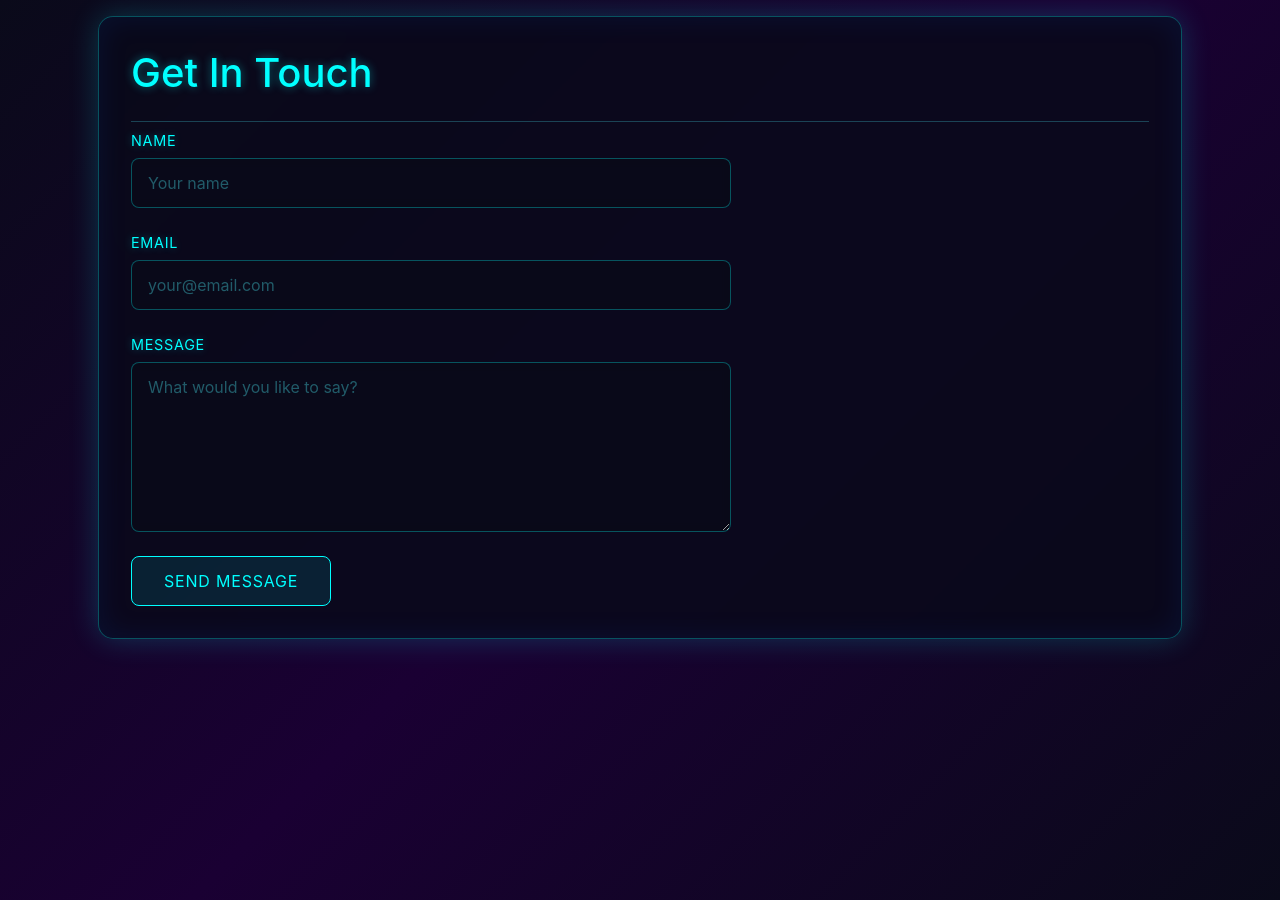
Test: Contact form › shows email format error for invalid email
This screenshot has width=1280, height=900.
In the field labelled "Name": (431, 183) x1=131 y1=158 x2=731 y2=208, type "Parker"
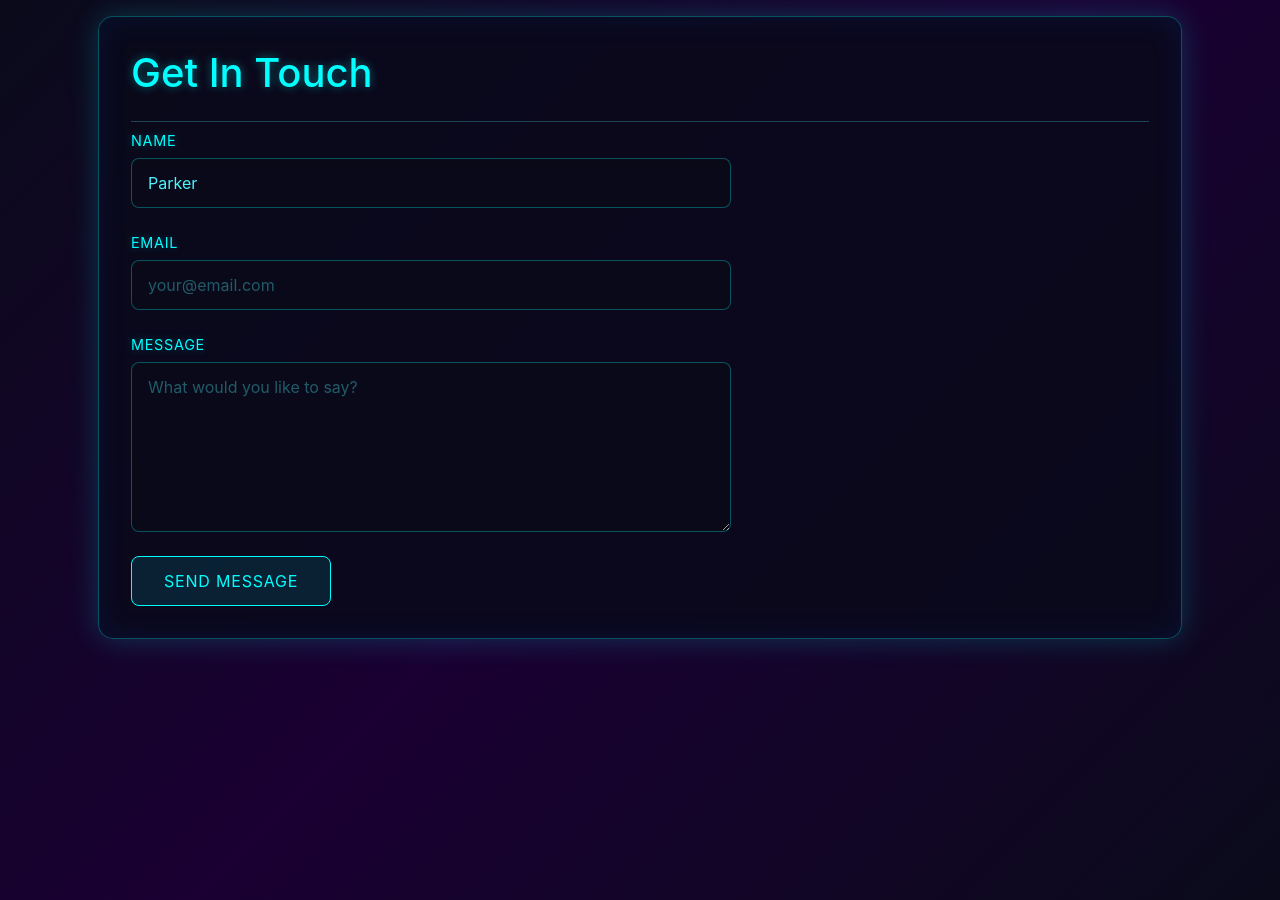
In the field labelled "Email": (431, 285) x1=131 y1=260 x2=731 y2=310, type "notanemail"
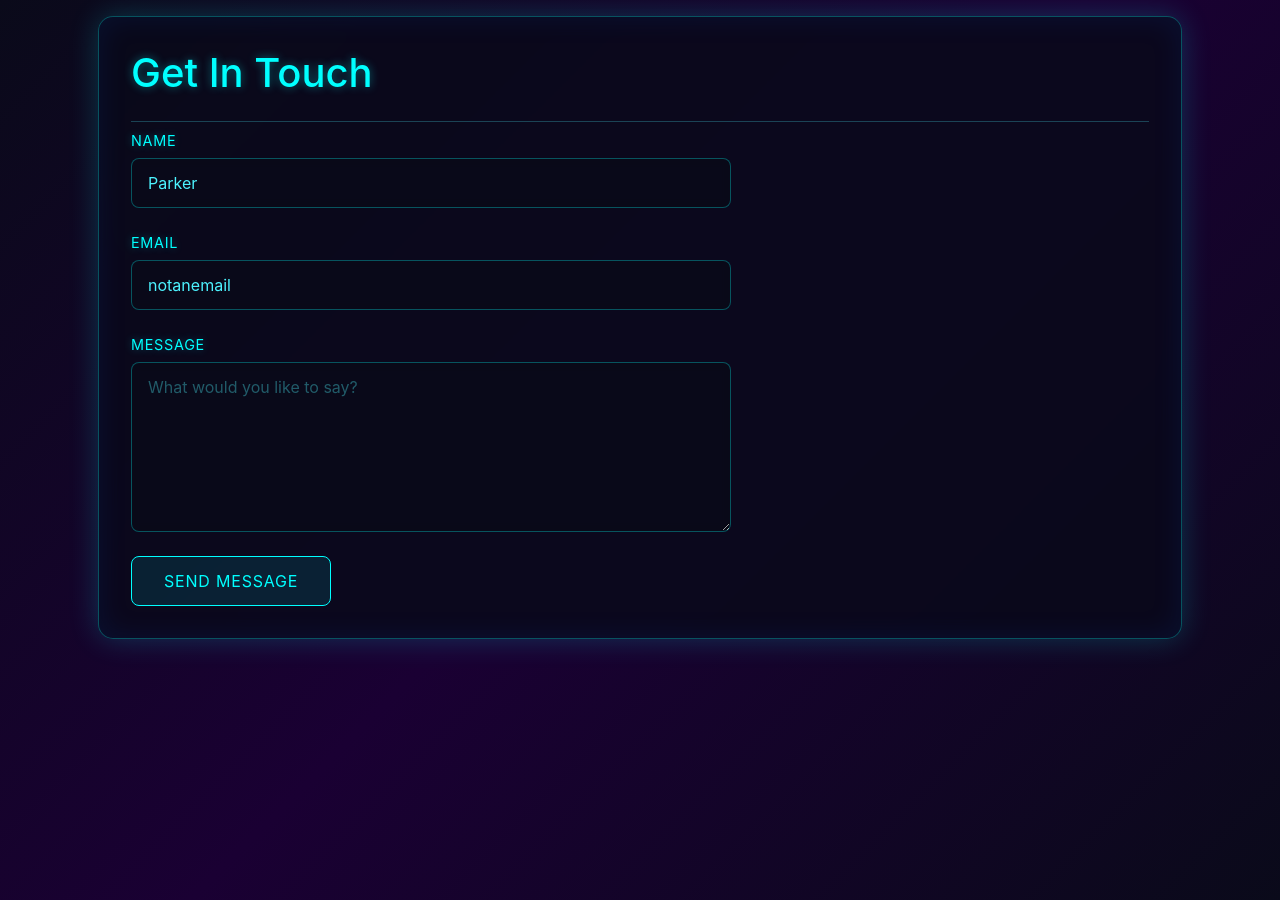
In the text box labelled "Message": (431, 447) x1=131 y1=362 x2=731 y2=532, type "Hello"
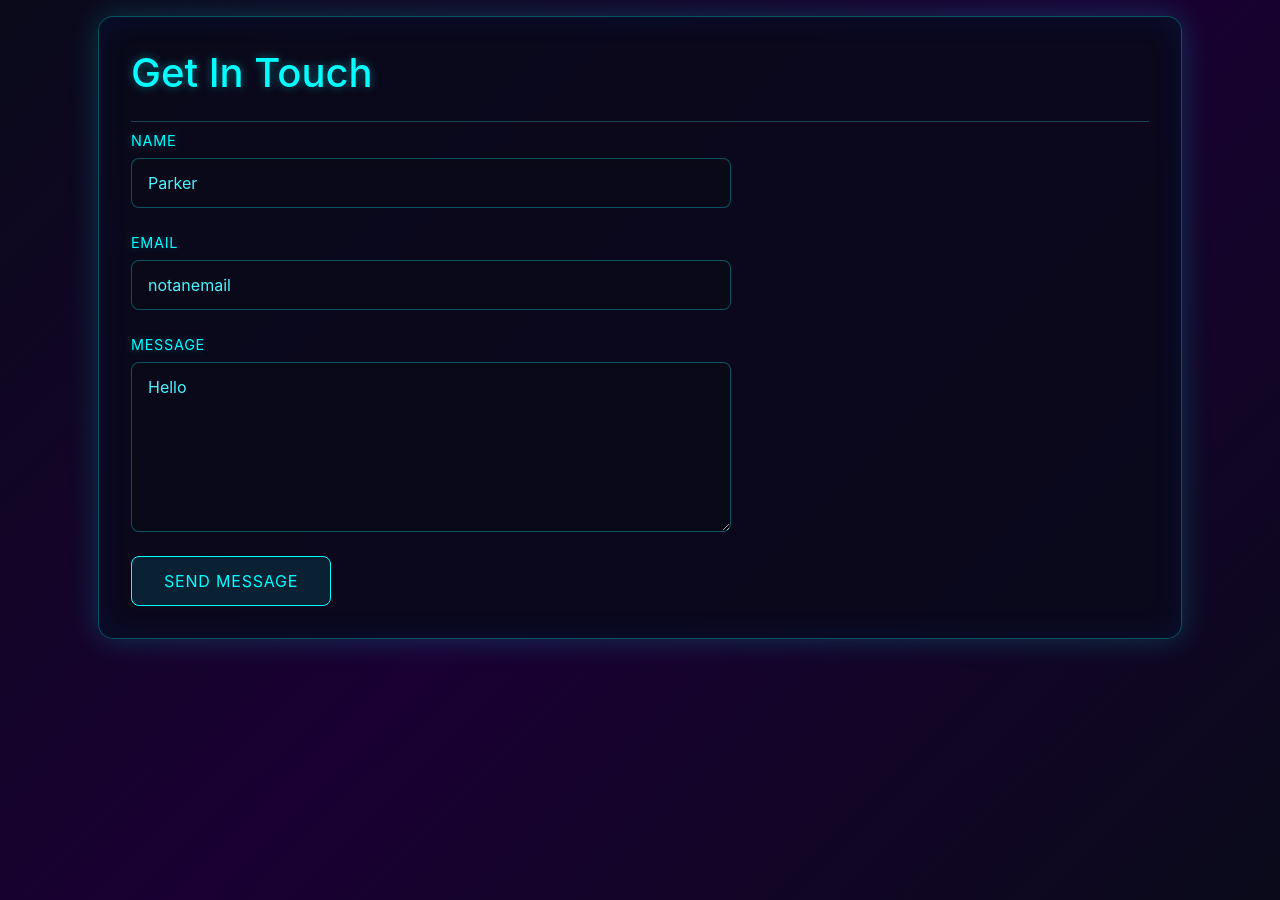
Click the button "Send Message": (231, 581) x1=131 y1=556 x2=331 y2=606
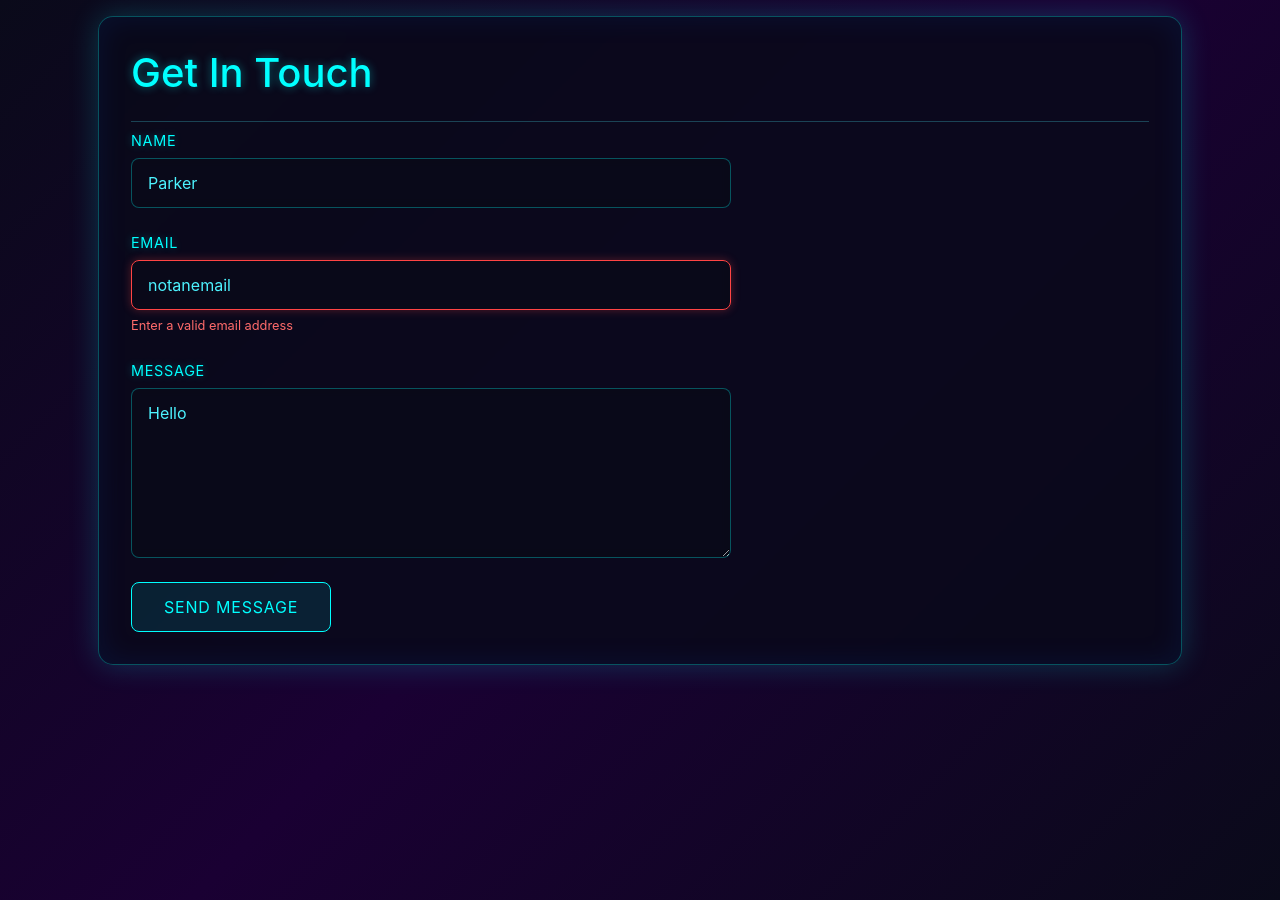
Check: the text "Enter a valid email address" is shown, box x1=131 y1=318 x2=293 y2=333
